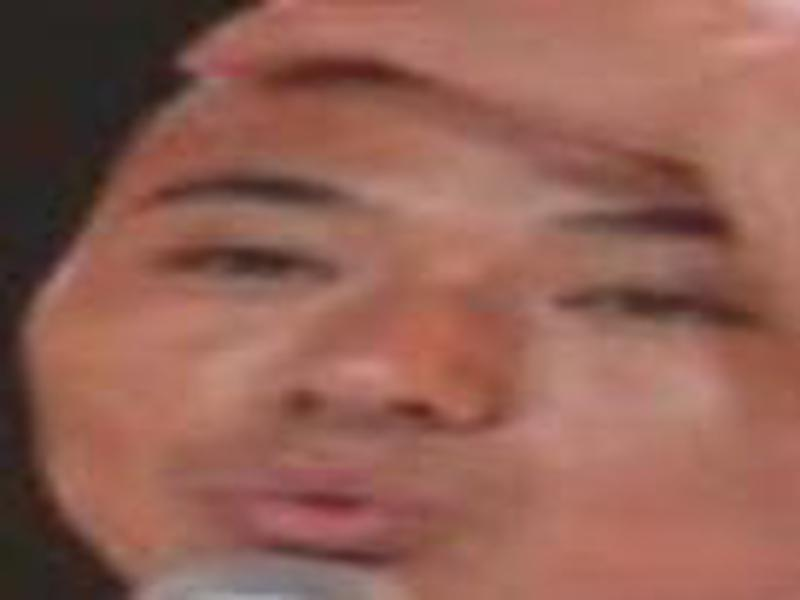without_mask: (24, 68, 800, 600)
